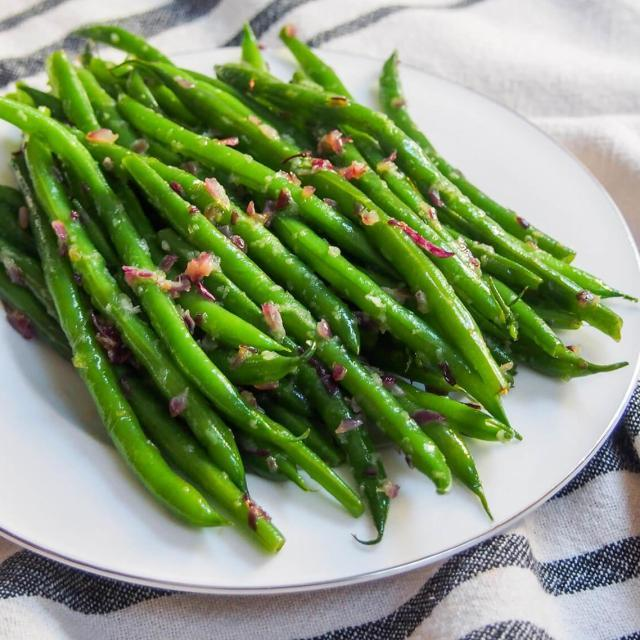Beans: (0, 6, 639, 556)
